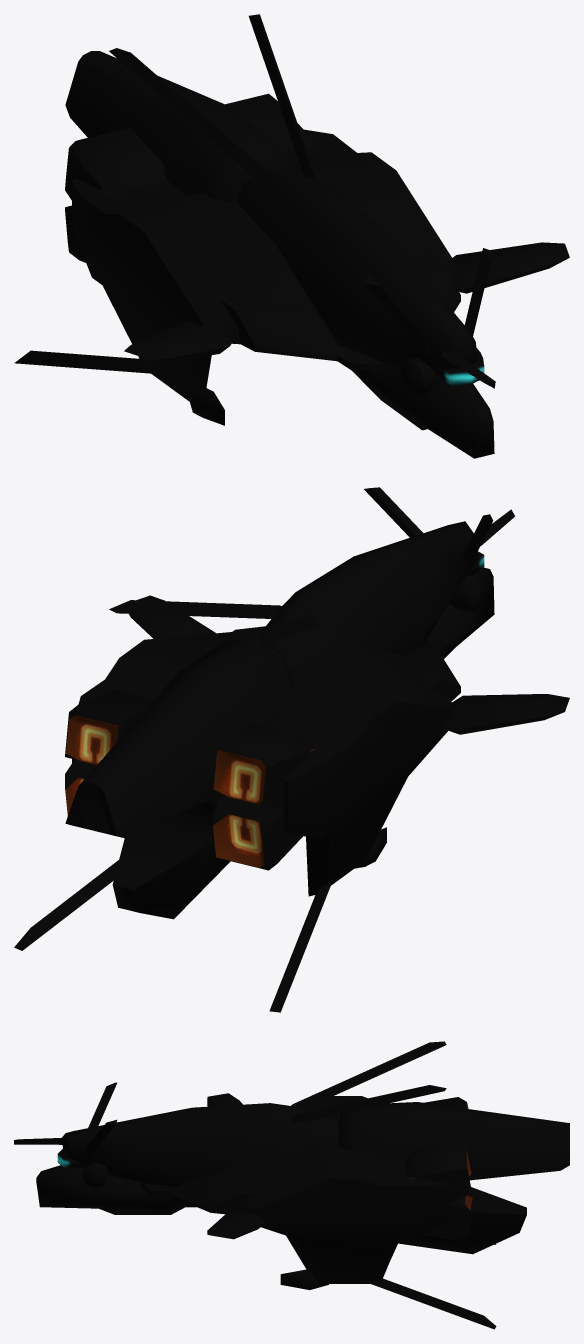
The model's file is p1_sf_intc_01_t1.glb.
3 renders of one model, top to bottom at view 1: azimuth 30°, elevation 25°; view 2: azimuth 150°, elevation 25°; view 3: azimuth 270°, elevation 25°, orthographic. The views are drawn at different scales.
Visible parts, largest first — view 1: p1_interceptor_01_LOD0; view 2: p1_interceptor_01_LOD0; view 3: p1_interceptor_01_LOD0.
Boxes of the visible parts, box(x1,y1,x2,y2) form: p1_interceptor_01_LOD0: box(14, 14, 569, 458); p1_interceptor_01_LOD0: box(14, 487, 569, 1012); p1_interceptor_01_LOD0: box(14, 1041, 569, 1329).
Size of what is drawn, in the model's own units: 0.3112 by 0.2218 by 0.5036.
1 material, 1 textured.
